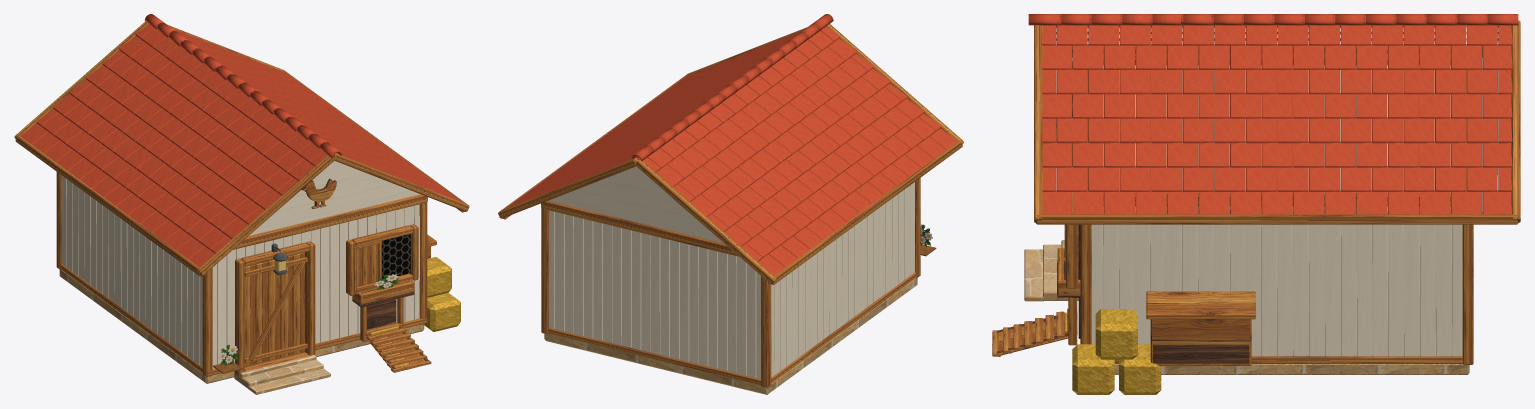
File: CoopExterior_Cozy_LOD1.fbx
The picture shows the model from 3 angles, left to right: view 1: azimuth 30°, elevation 25°; view 2: azimuth 150°, elevation 25°; view 3: azimuth 270°, elevation 25°; orthographic projection. The views are drawn at different scales.
Parts seen in each view (by area): view 1: CoopExterior_Cozy_LOD1; view 2: CoopExterior_Cozy_LOD1; view 3: CoopExterior_Cozy_LOD1.
Boxes of the visible parts, x1,y1,x2,y2 form: CoopExterior_Cozy_LOD1: (14,14,469,394); CoopExterior_Cozy_LOD1: (498,14,963,394); CoopExterior_Cozy_LOD1: (992,14,1520,394).
Bounding box in the file's own units: 7.78 × 5.92 × 9.71.
